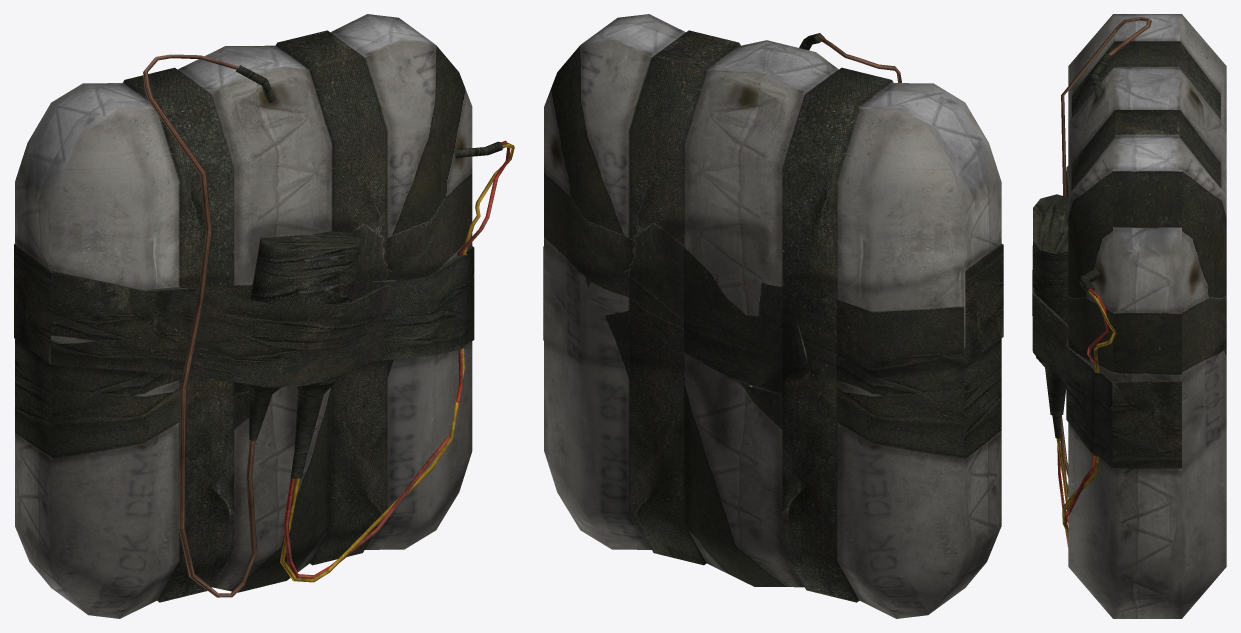
File: weapon_c4_LOD0.obj
3 views of the same model, side by side, from view 1: azimuth 30°, elevation 25°; view 2: azimuth 150°, elevation 25°; view 3: azimuth 270°, elevation 25° (orthographic). The views are drawn at different scales.
Parts seen in each view (by area): view 1: mtl_weapon_c4; view 2: mtl_weapon_c4; view 3: mtl_weapon_c4.
Part boxes in pixels (<box>): mtl_weapon_c4: <box>14,14,514,618</box>; mtl_weapon_c4: <box>543,14,1003,618</box>; mtl_weapon_c4: <box>1032,14,1226,618</box>.
Size of the model in its own units: 30.66 by 34.29 by 12.17.
